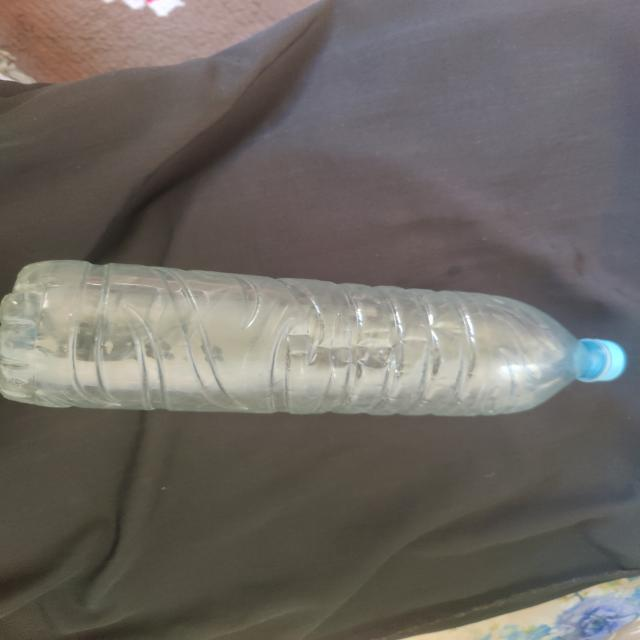plastic: (3, 262, 629, 422)
